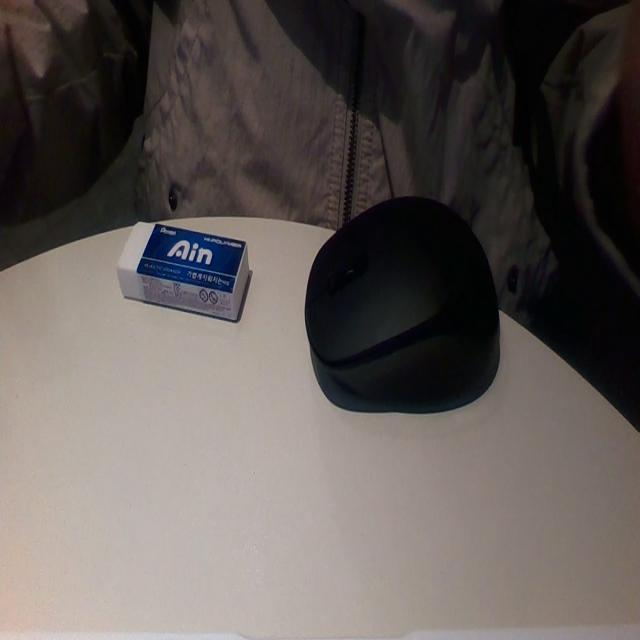eraser: (102, 215, 255, 320)
mouse: (293, 177, 509, 429)
